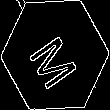M_NE: (25, 22, 85, 88)
